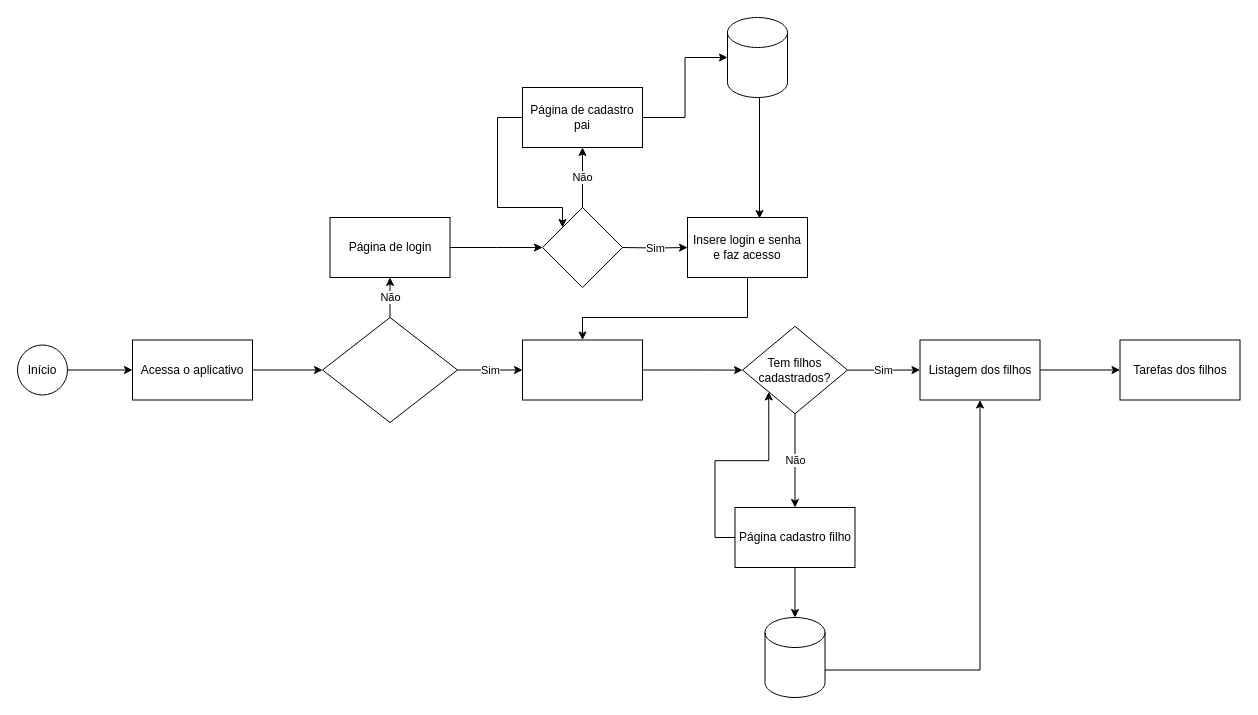
The diagram is 1258 pixels wide and 715 high, and some of its shapes have lost their labels. The shapes that lost their labels are listed below. From the top down, each one's centre as x and y in pixels, then its label:
the point at 757,57: pai db
the point at 582,247: Possui cadastro?
the point at 390,369: Usuário possui alguma conta logada?
the point at 582,369: Página Inicial
the point at 794,657: filho db
